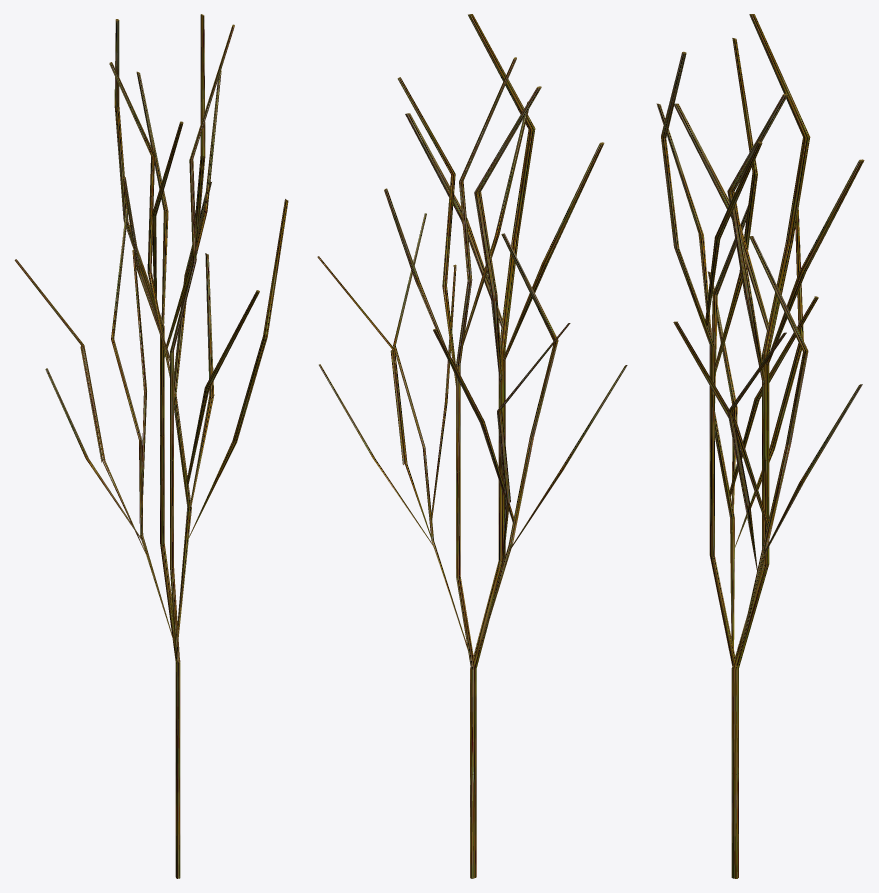
Rendered from Stickbush.fbx.
3 renders of one model, left to right at view 1: azimuth 30°, elevation 25°; view 2: azimuth 150°, elevation 25°; view 3: azimuth 270°, elevation 25°, orthographic. The views are drawn at different scales.
Visible parts, largest first — view 1: Cylinder.002; view 2: Cylinder.002; view 3: Cylinder.002.
Part boxes in pixels (box(x1,y1,x2,y2)): Cylinder.002: box(14, 14, 288, 878); Cylinder.002: box(317, 14, 627, 878); Cylinder.002: box(656, 14, 864, 878).
Size of the model in its own units: 11.26 by 33.09 by 7.43.
1 material, 1 textured.
